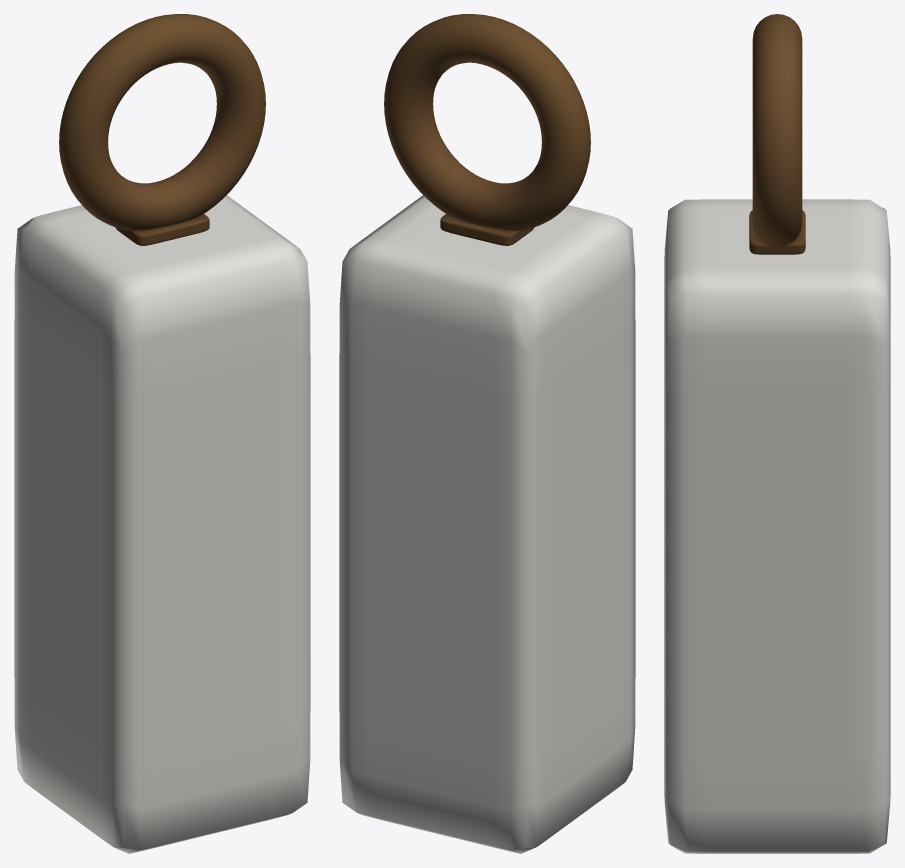
Rendered from bronze-ring.glb.
The picture shows the model from 3 angles, left to right: view 1: azimuth 30°, elevation 25°; view 2: azimuth 150°, elevation 25°; view 3: azimuth 270°, elevation 25°; orthographic projection.
Parts seen in each view (by area): view 1: plinth_white, bronze; view 2: plinth_white, bronze; view 3: plinth_white, bronze.
Boxes of the visible parts, x1,y1,x2,y2 form: plinth_white: [14, 195, 310, 853]; bronze: [59, 14, 265, 245]; plinth_white: [339, 195, 635, 853]; bronze: [384, 14, 590, 245]; plinth_white: [664, 199, 890, 853]; bronze: [749, 14, 805, 254].
Size of the model in its own units: 0.33 by 1.23 by 0.32.
Materials: 2 (1 with a texture image).
